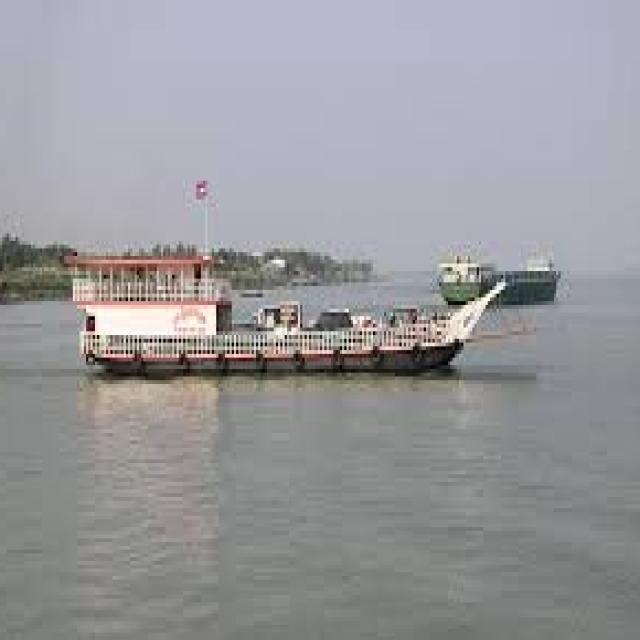cargoship: (63, 232, 489, 383), (451, 222, 563, 312)
